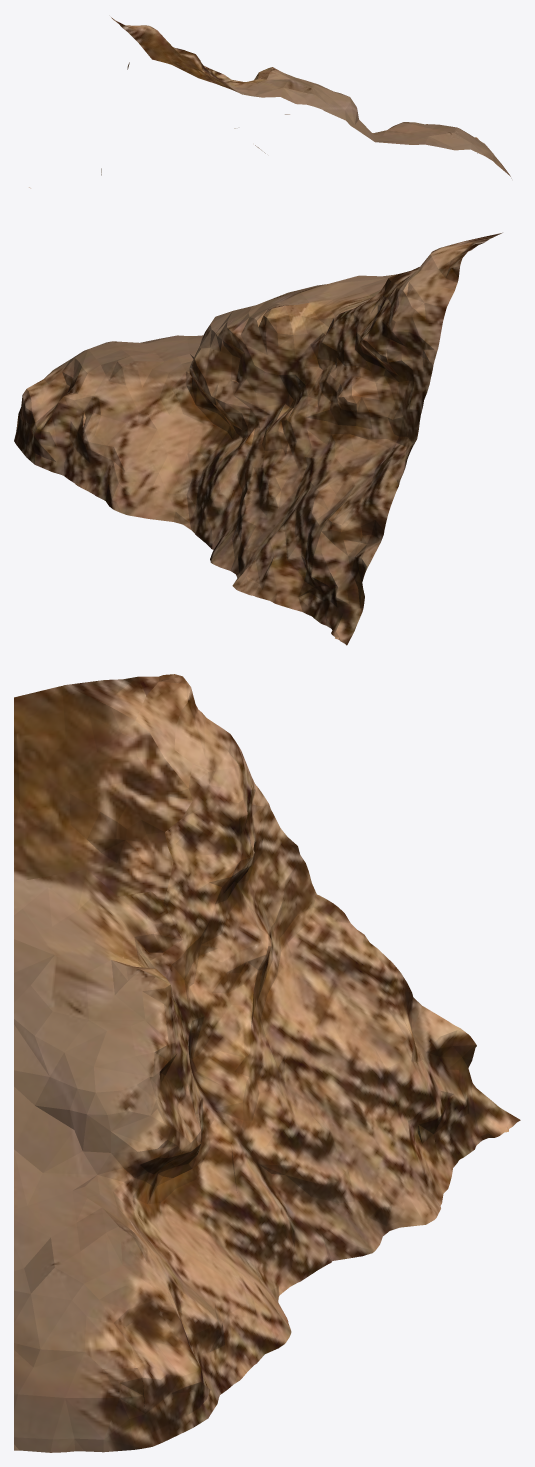
3 views of the same model, one above another, from view 1: azimuth 30°, elevation 25°; view 2: azimuth 150°, elevation 25°; view 3: azimuth 270°, elevation 25° (orthographic). The views are drawn at different scales.
Bounding box in the file's own units: 0.5679 × 0.355 × 0.3657.
Materials: 1 (1 with a texture image).
